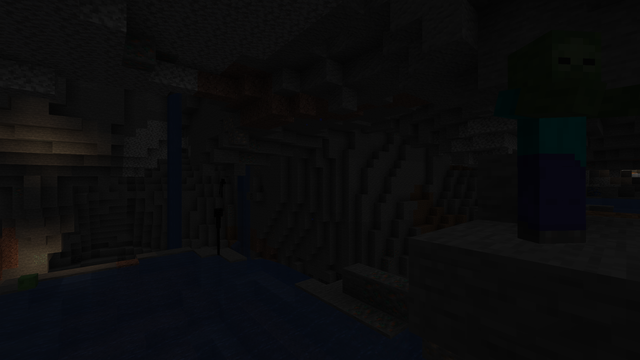endermens: (211, 206, 223, 254), (220, 178, 225, 197)
slimes: (17, 272, 37, 290)
zombies: (506, 25, 595, 251)
